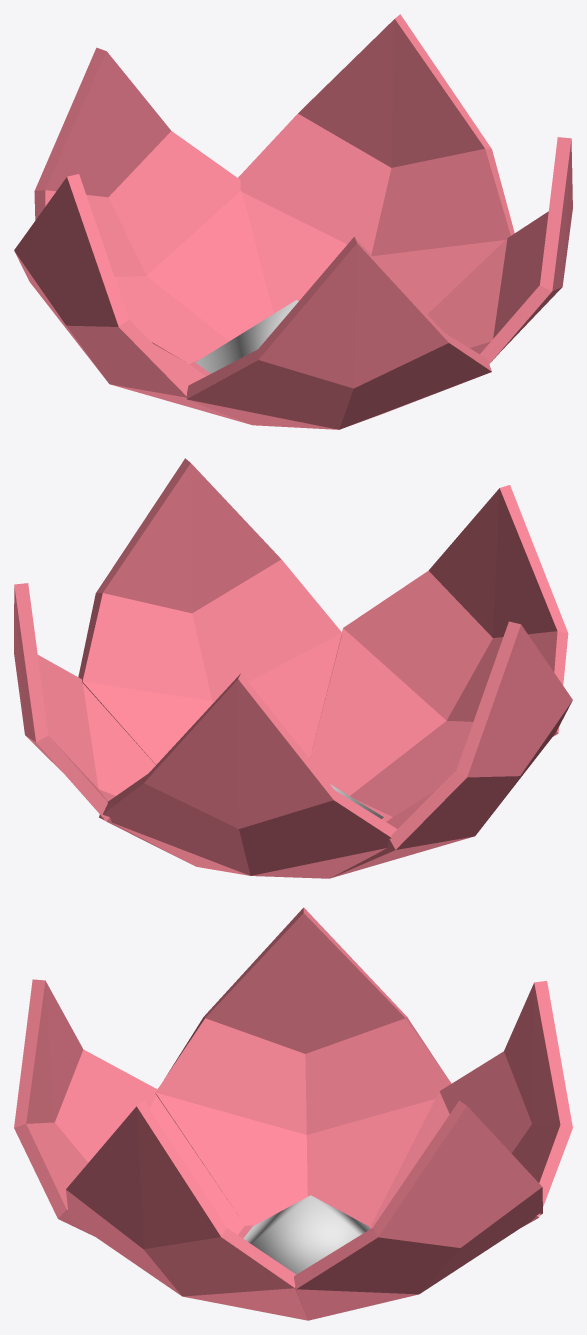
File: Fiore 01.DAE
3 views of the same model, one above another, from view 1: azimuth 30°, elevation 25°; view 2: azimuth 150°, elevation 25°; view 3: azimuth 270°, elevation 25° (orthographic). The views are drawn at different scales.
Parts seen in each view (by area): view 1: pink_water_lily_Plane_007, Sphere002; view 2: pink_water_lily_Plane_007; view 3: pink_water_lily_Plane_007, Sphere002.
Boxes of the visible parts, x1,y1,x2,y2 form: pink_water_lily_Plane_007: (14,14,572,429); Sphere002: (195,300,298,373); pink_water_lily_Plane_007: (14,458,572,878); pink_water_lily_Plane_007: (14,907,572,1320); Sphere002: (243,1195,370,1274).
Bounding box in the file's own units: 2.64 × 1.43 × 2.84.
